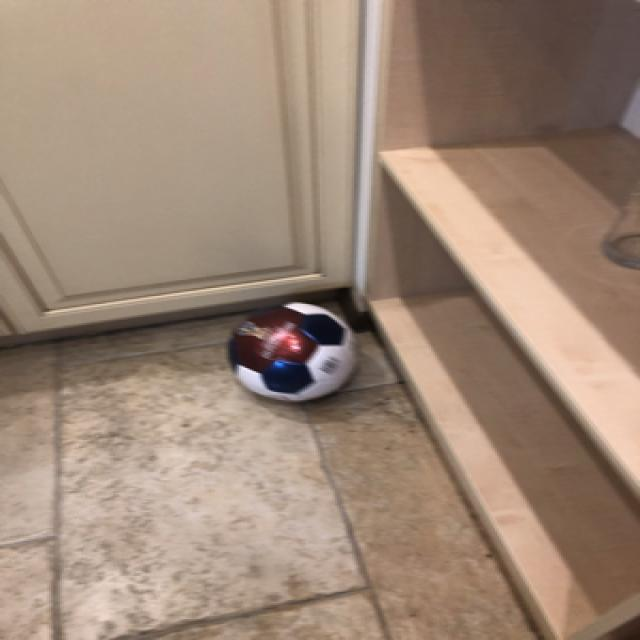soccer_ball: (222, 299, 360, 402)
